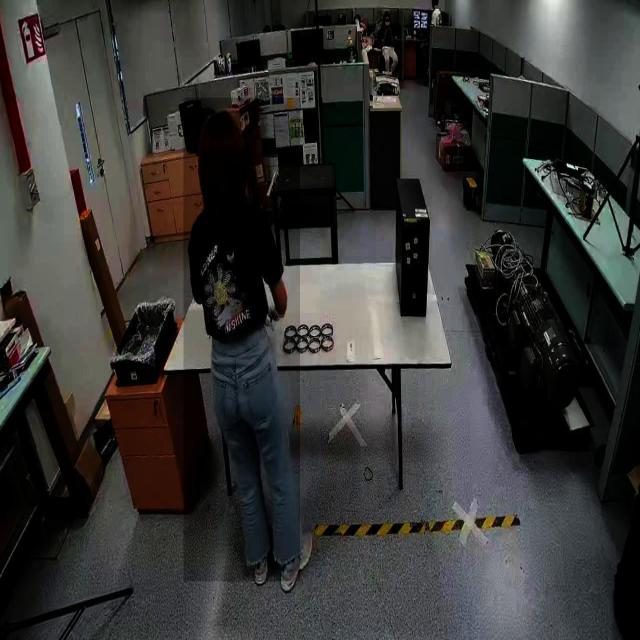head_nohelmet: (198, 109, 244, 151), (382, 9, 390, 17)
person: (184, 98, 300, 582), (377, 11, 403, 72)
shoes: (276, 528, 320, 594), (244, 519, 271, 589)
